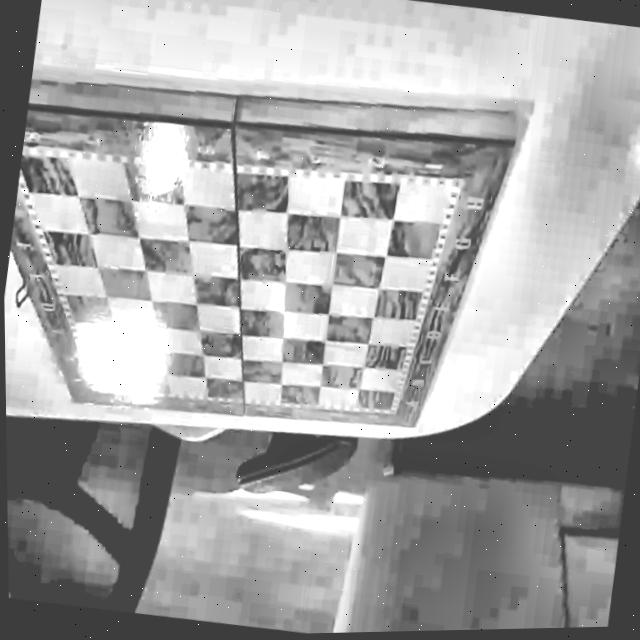chessboard: (14, 112, 515, 431)
